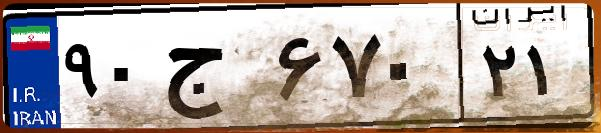0: (385, 28, 445, 110), (110, 28, 158, 98)
1: (525, 38, 570, 115)
2: (475, 38, 525, 113)
6: (270, 28, 330, 110)
7: (330, 28, 385, 110)
9: (57, 26, 110, 100)
ج: (158, 20, 270, 120)
